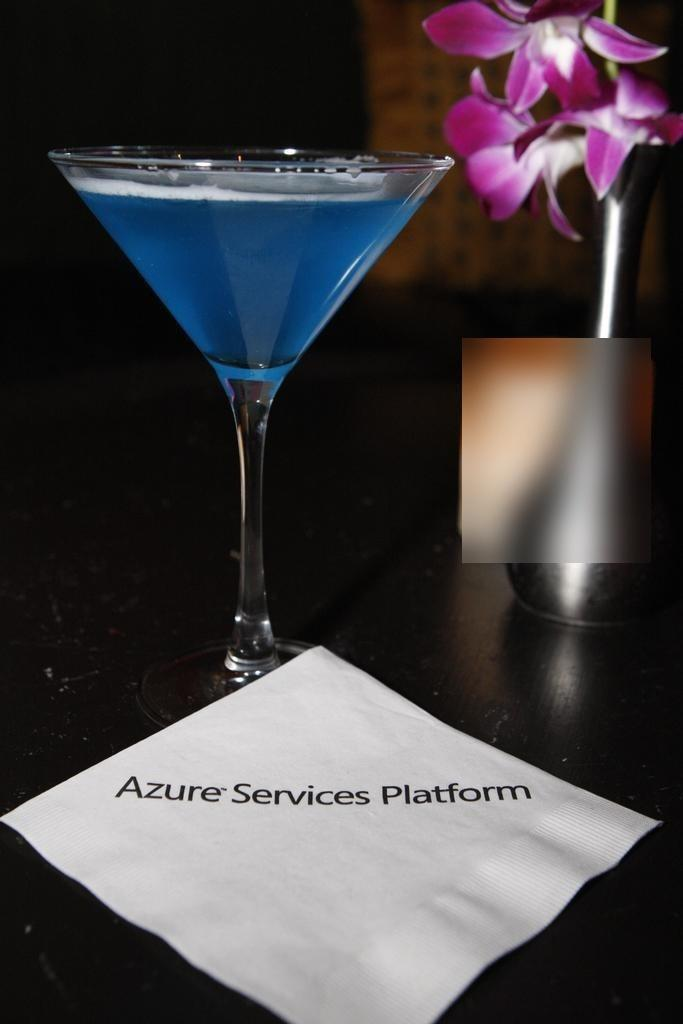glass-wine: (51, 147, 450, 731)
